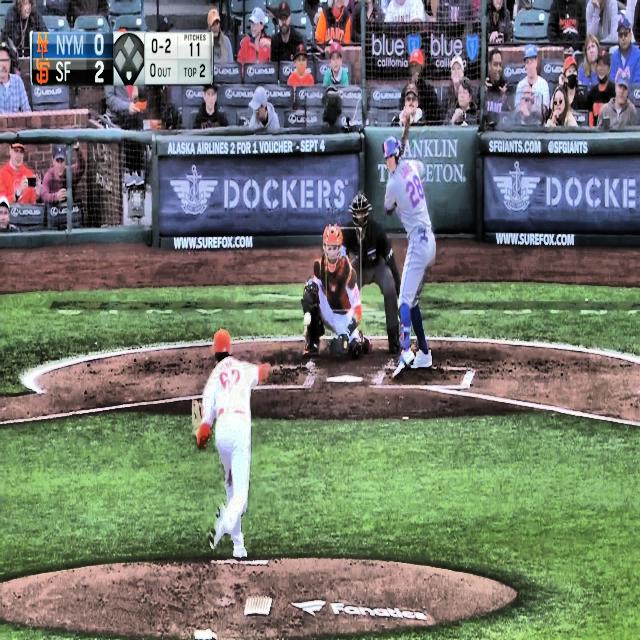baseball: (303, 310, 312, 328)
